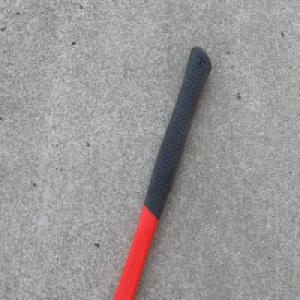Hammer: (110, 43, 212, 300)
